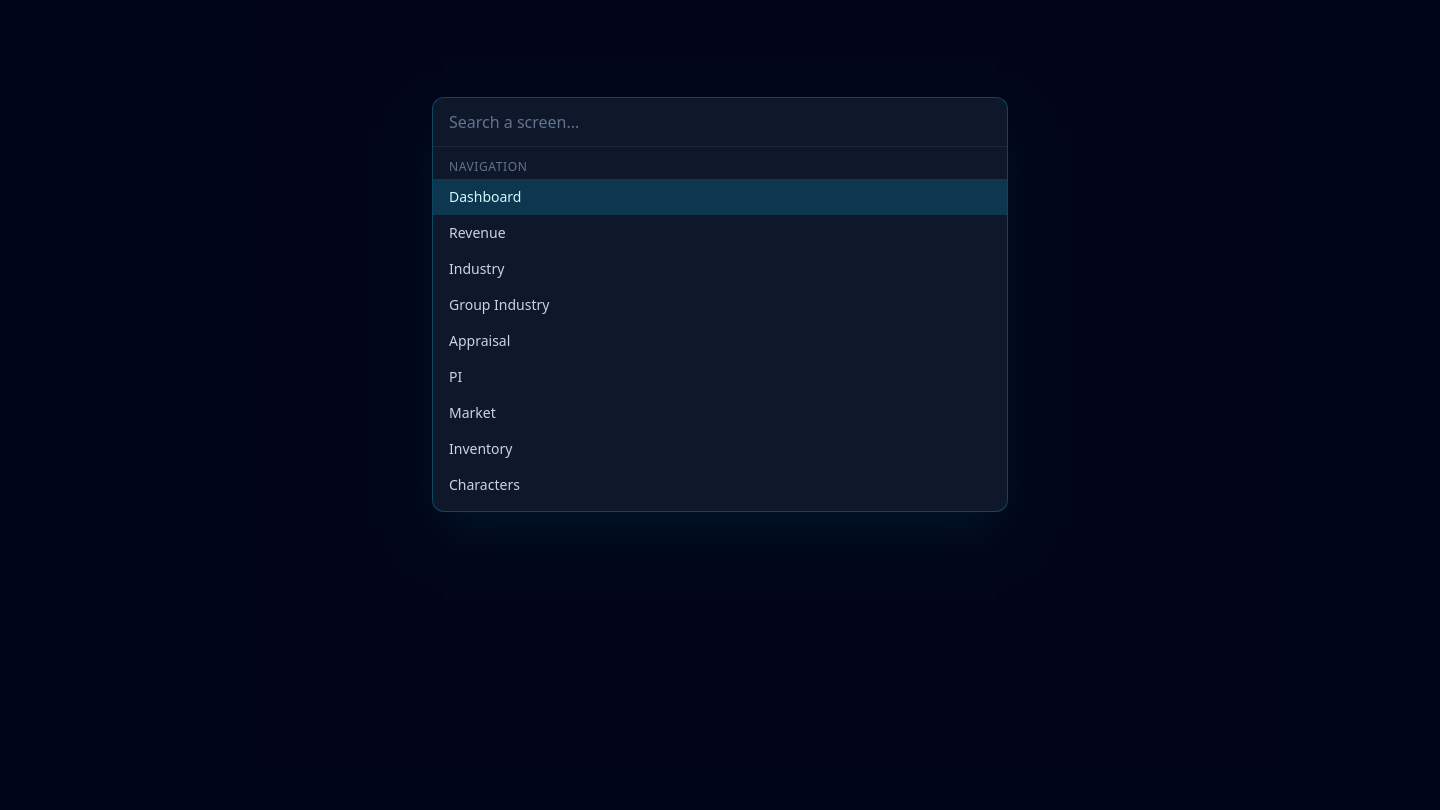
Test case: CommandPalette types › rows › reports no result when the type search answers nothing and nothing else matches
The image size is (1440, 810).
Type "zzz" into the dropdown with placeholder "Search a screen..." at (720, 123), box [433,98,1007,147]
Wait 250 ms
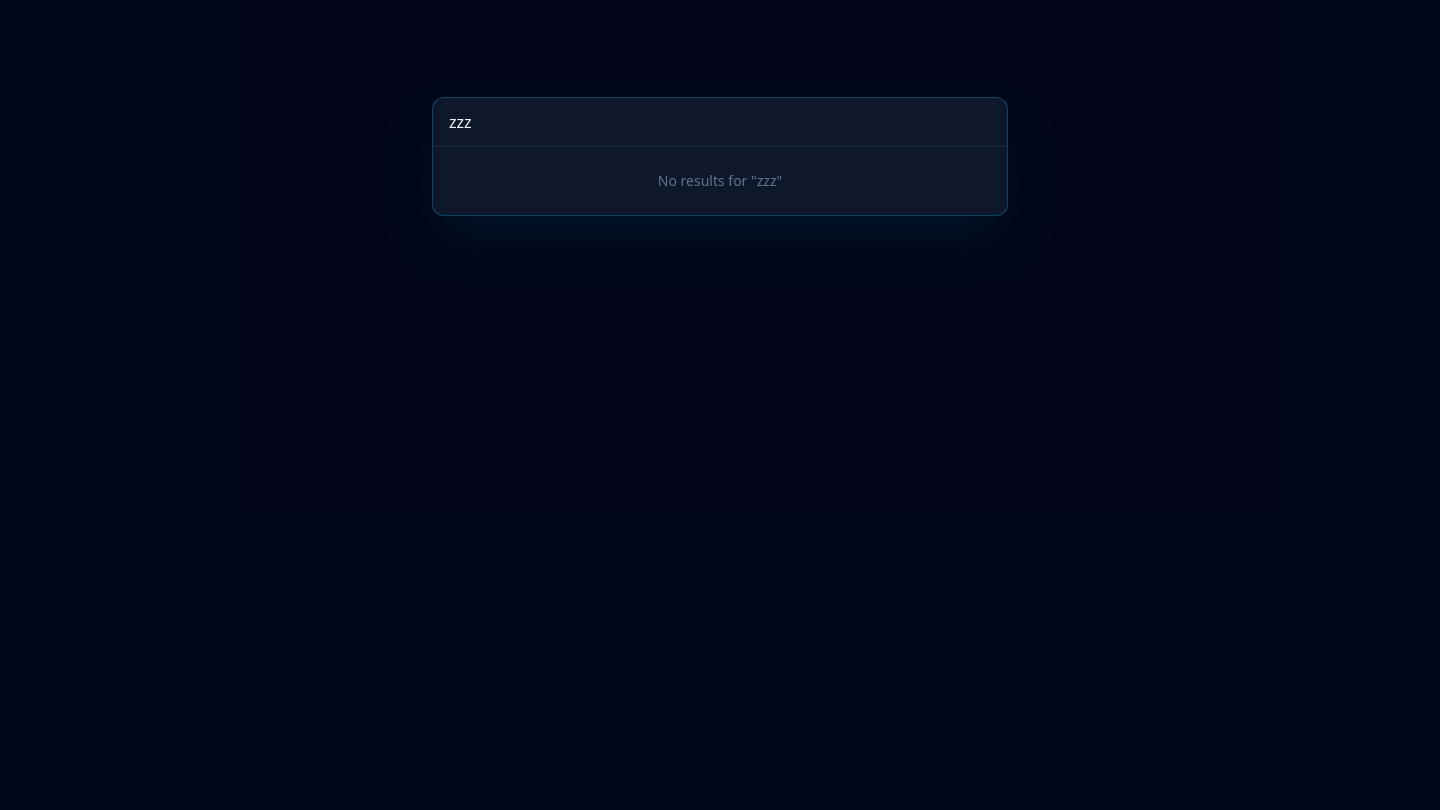
Expected: the message "No results for \"zzz\"" reads "No results for \"zzz\"", [658,171,782,190]
